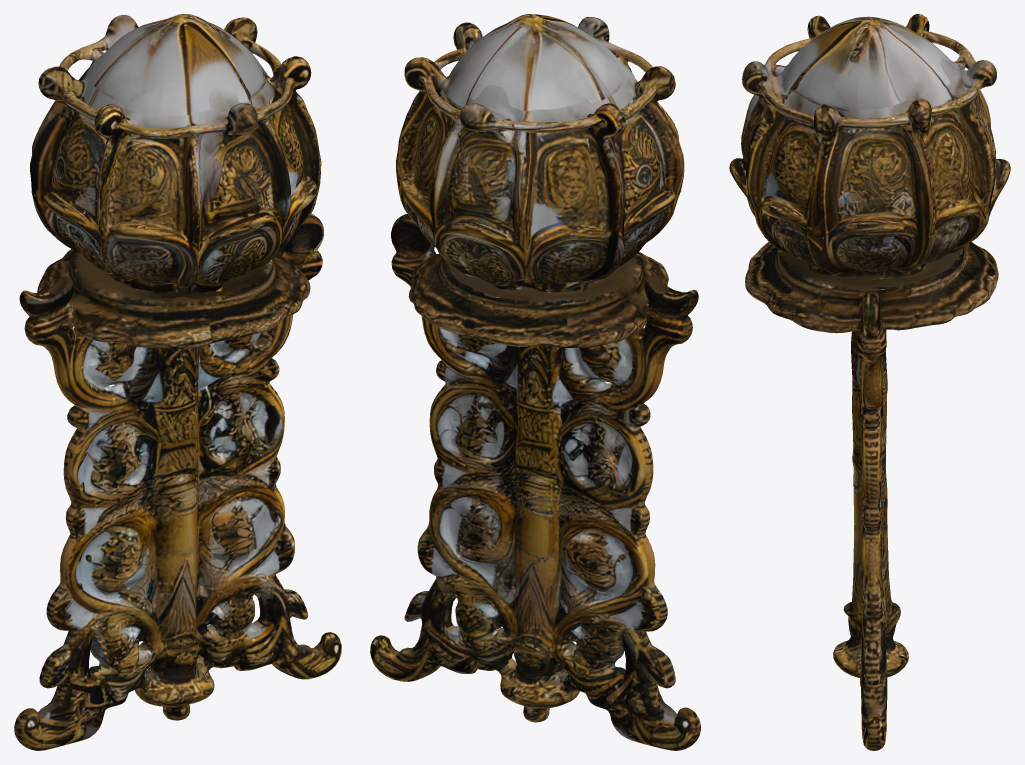
3 views of the same model, side by side, from view 1: azimuth 30°, elevation 25°; view 2: azimuth 150°, elevation 25°; view 3: azimuth 270°, elevation 25° (orthographic). The views are drawn at different scales.
Parts seen in each view (by area): view 1: textured_mesh; view 2: textured_mesh; view 3: textured_mesh.
Boxes of the visible parts, box(x1,y1,x2,y2) form: textured_mesh: box(14, 14, 341, 750); textured_mesh: box(370, 14, 700, 750); textured_mesh: box(729, 14, 1010, 750).
Size of the model in its own units: 0.9726 by 2 by 0.7577.
Materials: 1 (1 with a texture image).
